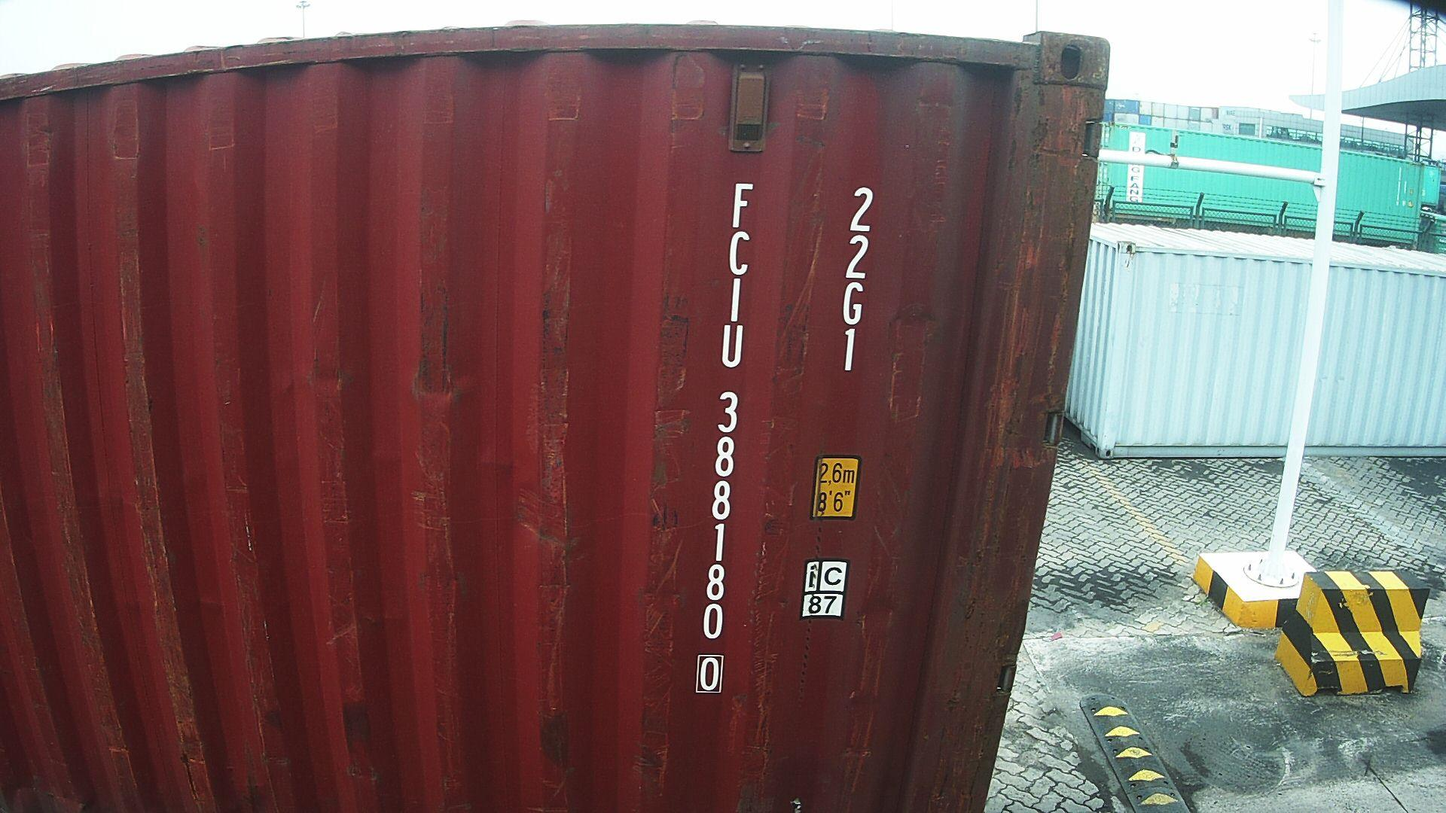container-numbers: (692, 175, 755, 698), (834, 181, 878, 379)
